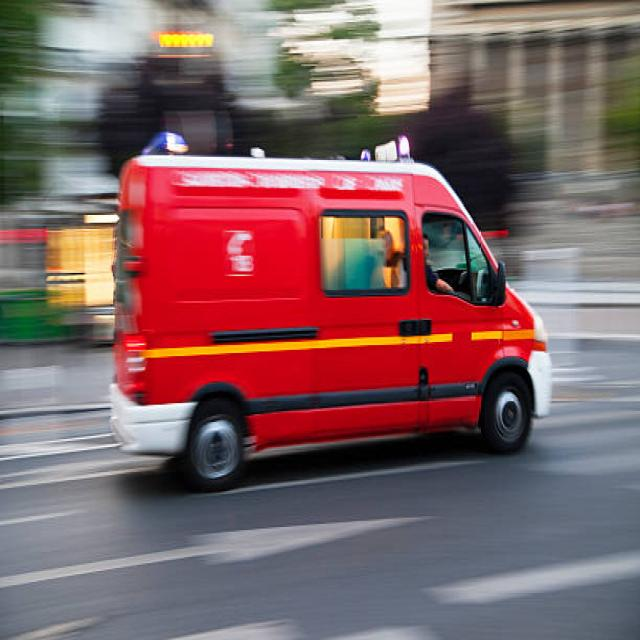emergency: (110, 135, 551, 490)
